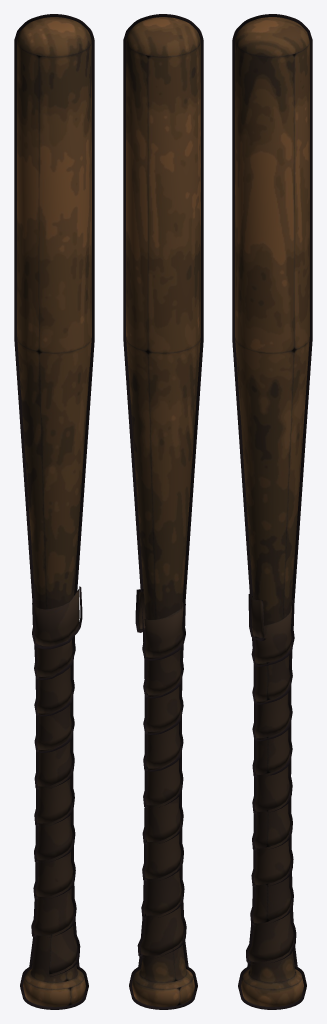
File: SM_Int_BaseballBat.fbx
3 renders of one model, left to right at view 1: azimuth 30°, elevation 25°; view 2: azimuth 210°, elevation 25°; view 3: azimuth 270°, elevation 25°, orthographic.
Visible parts, largest first — view 1: SM_Int_BaseballBat; view 2: SM_Int_BaseballBat; view 3: SM_Int_BaseballBat.
Boxes of the visible parts, box(x1,y1,x2,y2) form: SM_Int_BaseballBat: box(14, 14, 94, 1009); SM_Int_BaseballBat: box(123, 14, 203, 1009); SM_Int_BaseballBat: box(232, 14, 312, 1009).
Size of the model in its own units: 0.0686 by 0.9178 by 0.0686.
